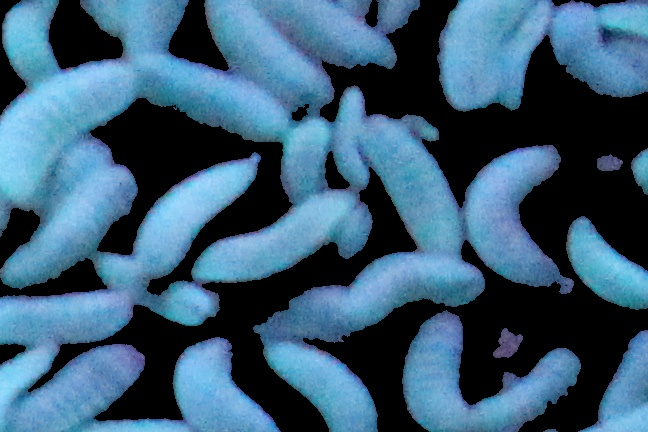larvae: (1, 61, 136, 209), (1, 163, 139, 287), (195, 186, 360, 287), (356, 111, 463, 257), (139, 154, 260, 275), (462, 144, 562, 285), (133, 55, 286, 140), (208, 1, 332, 105), (15, 344, 142, 432), (264, 335, 378, 432), (335, 253, 485, 326), (438, 1, 535, 108), (174, 338, 278, 432), (90, 250, 217, 324), (550, 1, 647, 97), (472, 347, 580, 432), (401, 311, 472, 432), (270, 1, 398, 65), (565, 215, 648, 306), (1, 294, 132, 347), (497, 1, 554, 109), (595, 329, 647, 432), (2, 1, 61, 82), (44, 136, 115, 203), (329, 83, 374, 185), (281, 116, 331, 198), (1, 346, 55, 408), (594, 1, 648, 40)
